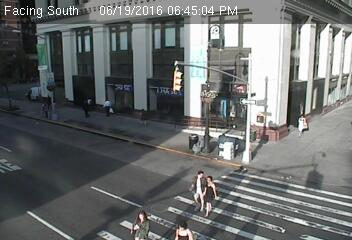neg: (212, 116, 243, 158), (245, 129, 275, 169), (13, 156, 37, 188), (158, 37, 181, 68), (266, 45, 288, 76), (312, 46, 334, 74), (76, 166, 96, 194), (122, 140, 141, 166), (65, 141, 83, 165), (216, 35, 231, 56)
pos: (172, 166, 206, 212), (290, 110, 314, 141), (129, 208, 151, 237), (133, 105, 152, 130), (34, 98, 51, 120), (100, 95, 116, 116), (21, 85, 33, 102)
